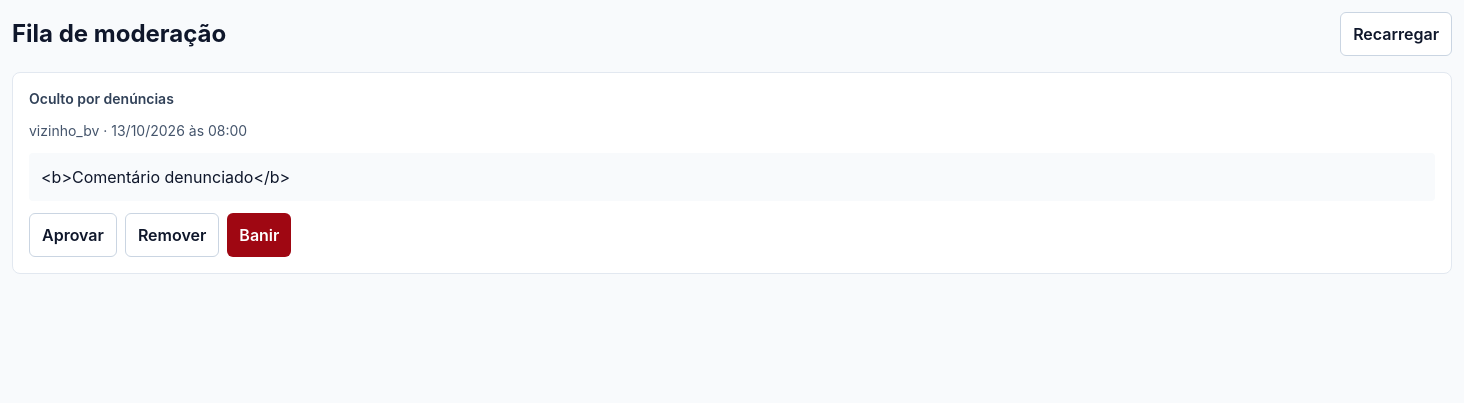
Scenario: AdminModeracao › banir pede confirmação
Click the button with aria-label "Banir vizinho_bv". click: point(259, 235)
box: [227, 213, 291, 257]
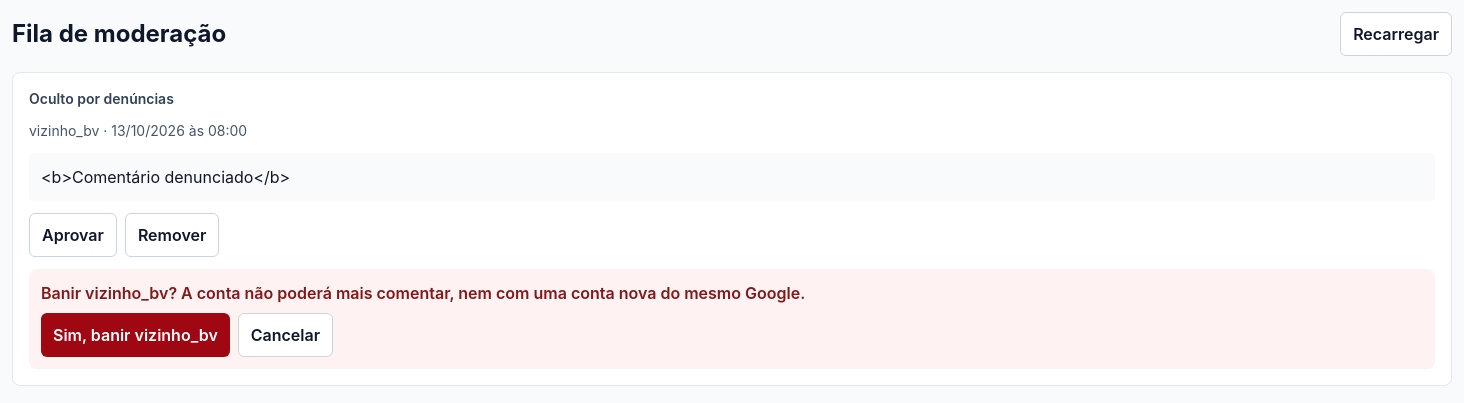
Click the button "Sim, banir vizinho_bv". click: point(135, 335)
box: [41, 313, 230, 357]
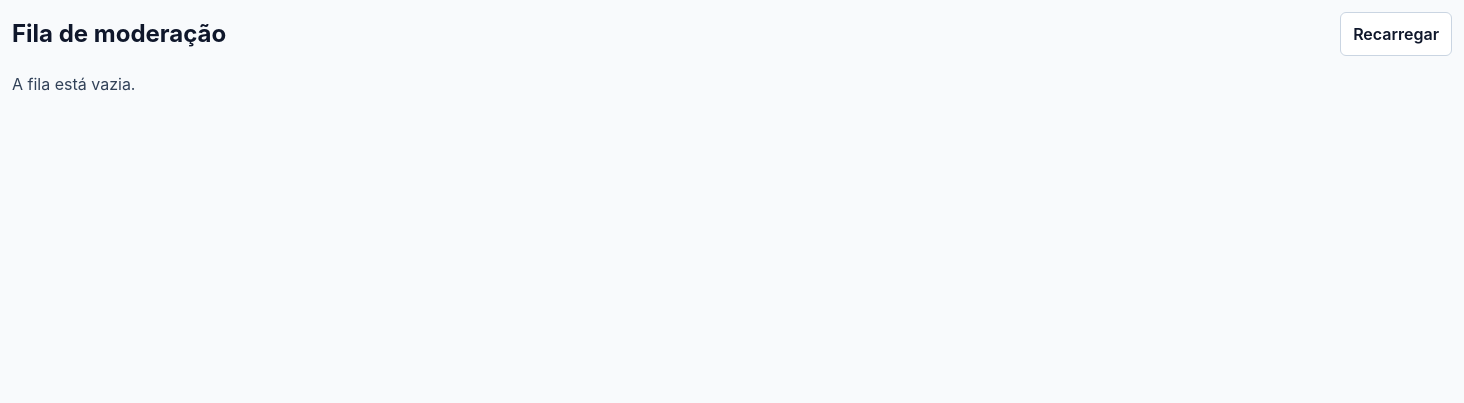
Now the text "A fila está vazia." is shown, box [12, 74, 136, 94]
